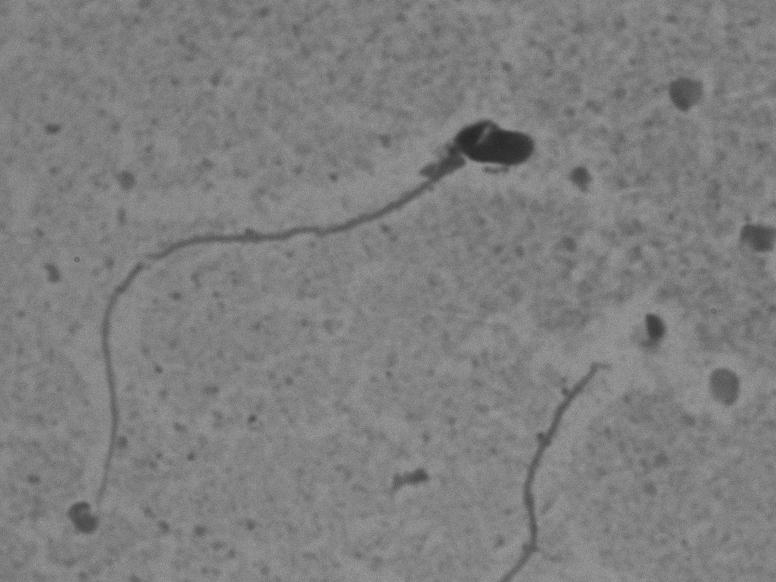Abnormal: (80, 105, 558, 541)
